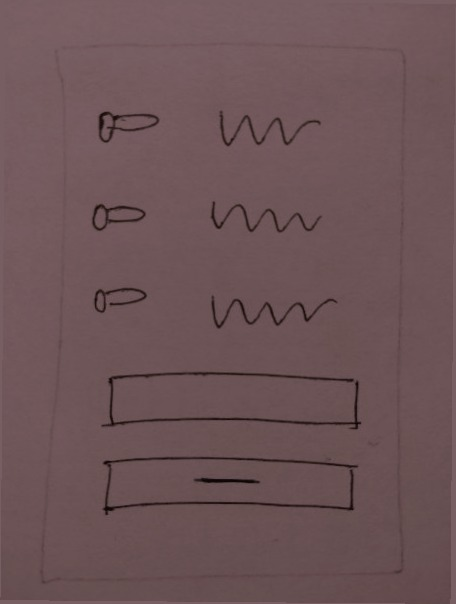button: (92, 447, 362, 523)
switch: (87, 100, 170, 152), (81, 274, 156, 323), (84, 195, 153, 241)
text: (202, 284, 348, 344), (207, 99, 328, 155), (199, 191, 326, 243)
text_input: (96, 365, 370, 439)
